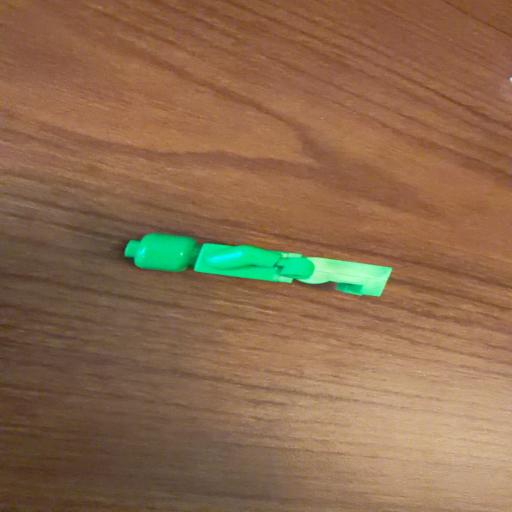UnoQ-minifig-detector: (125, 234, 392, 297), (277, 256, 314, 279)
